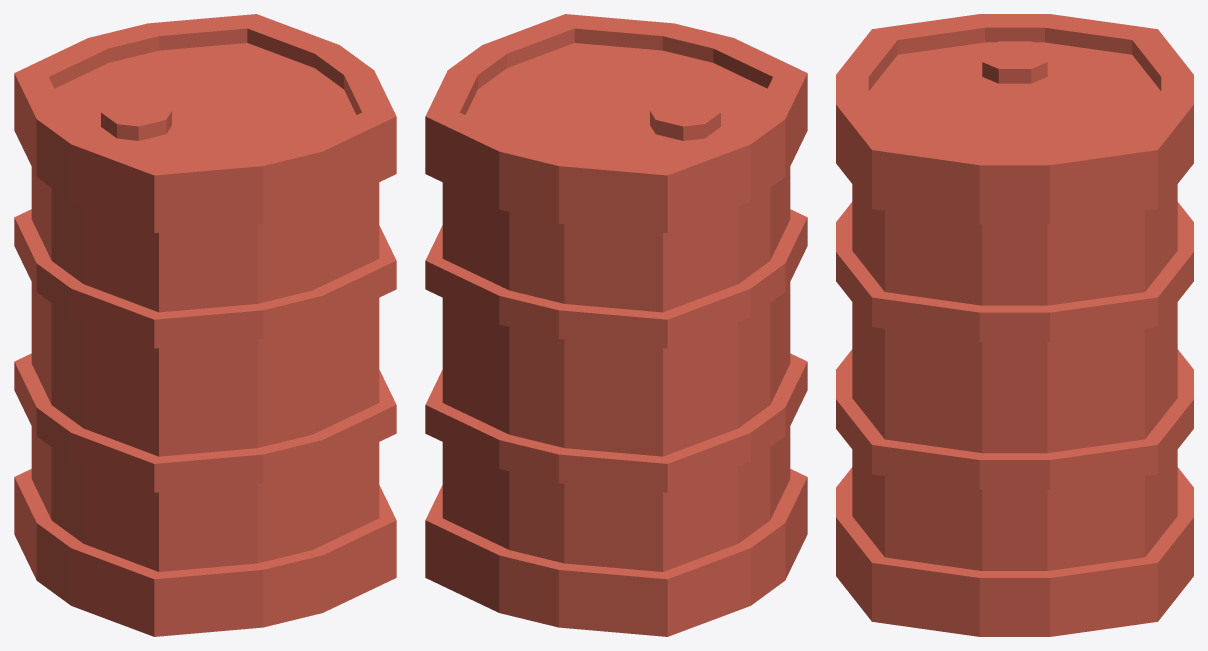
The model's file is barrel.obj.
3 renders of one model, left to right at view 1: azimuth 30°, elevation 25°; view 2: azimuth 150°, elevation 25°; view 3: azimuth 270°, elevation 25°, orthographic. The views are drawn at different scales.
Size of the model in its own units: 0.2365 by 0.344 by 0.2365.
